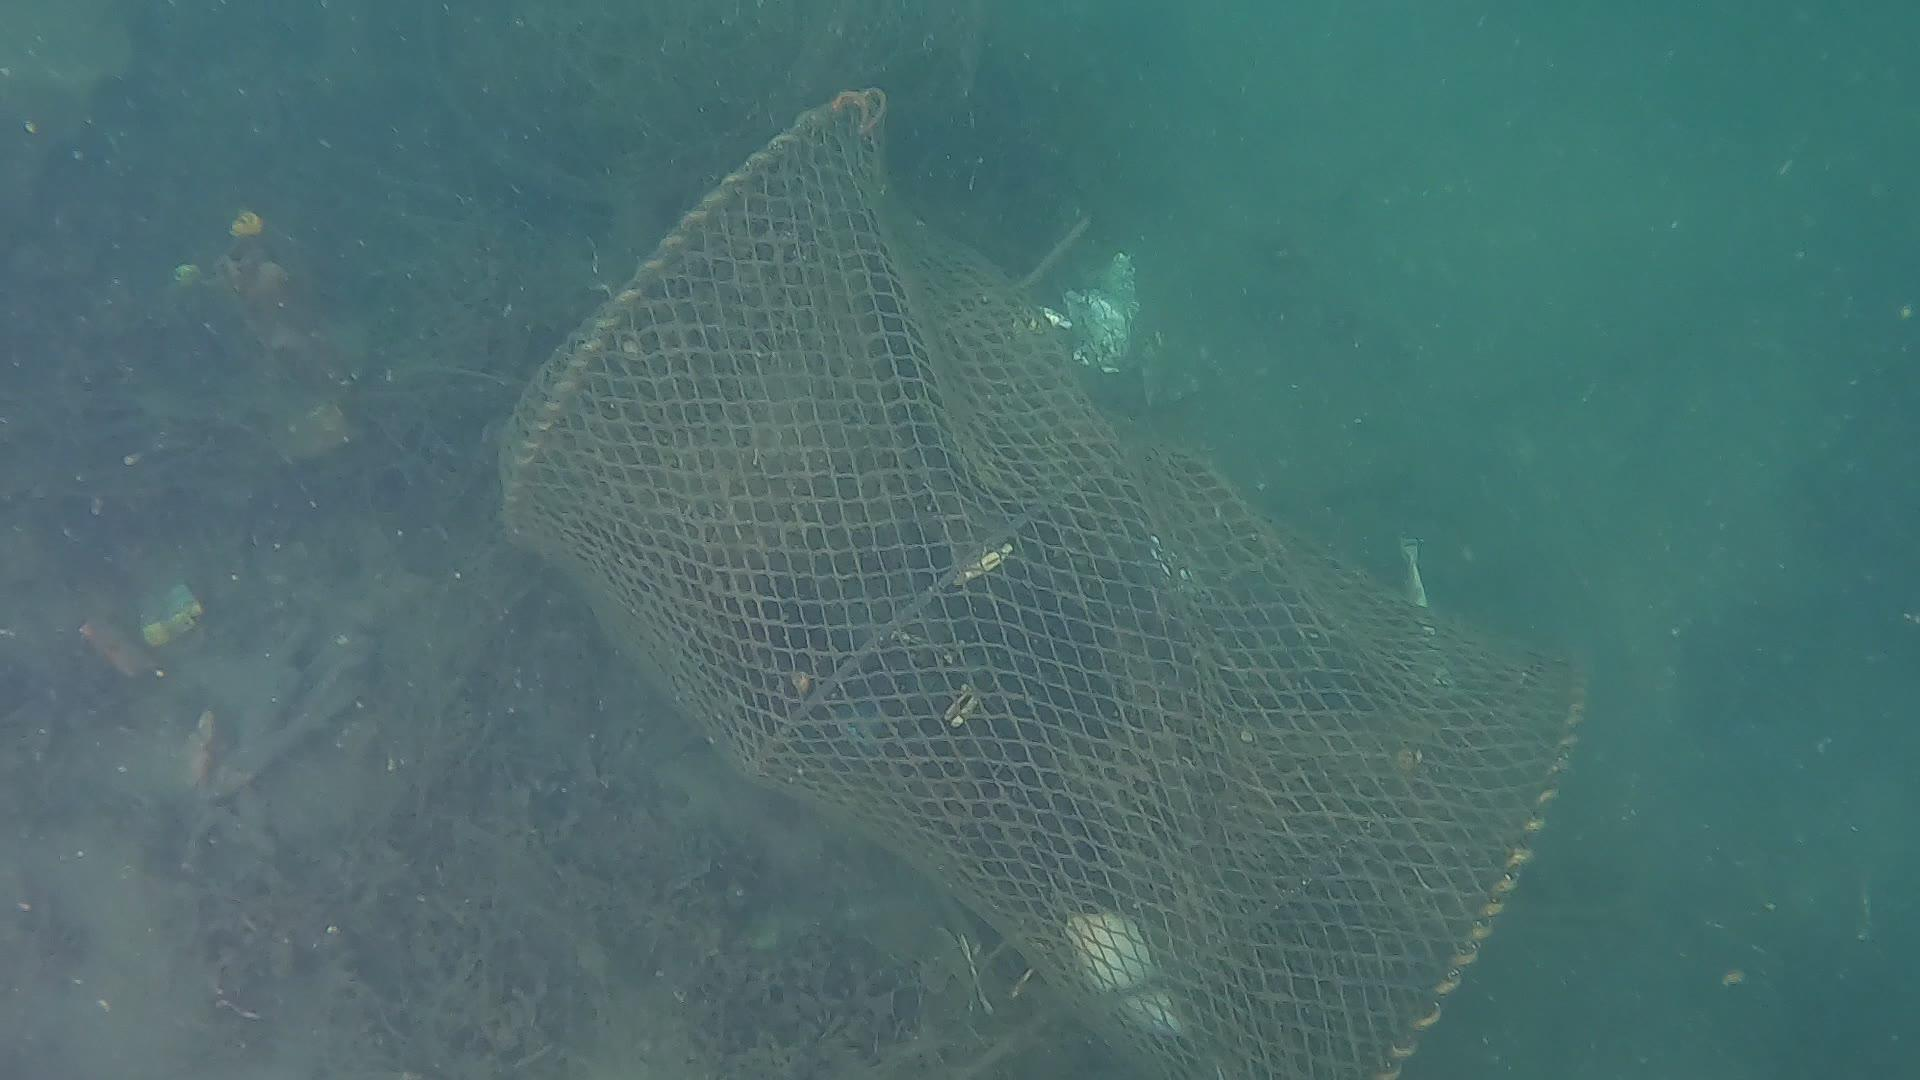spring fish trap: (485, 87, 1596, 1080)
